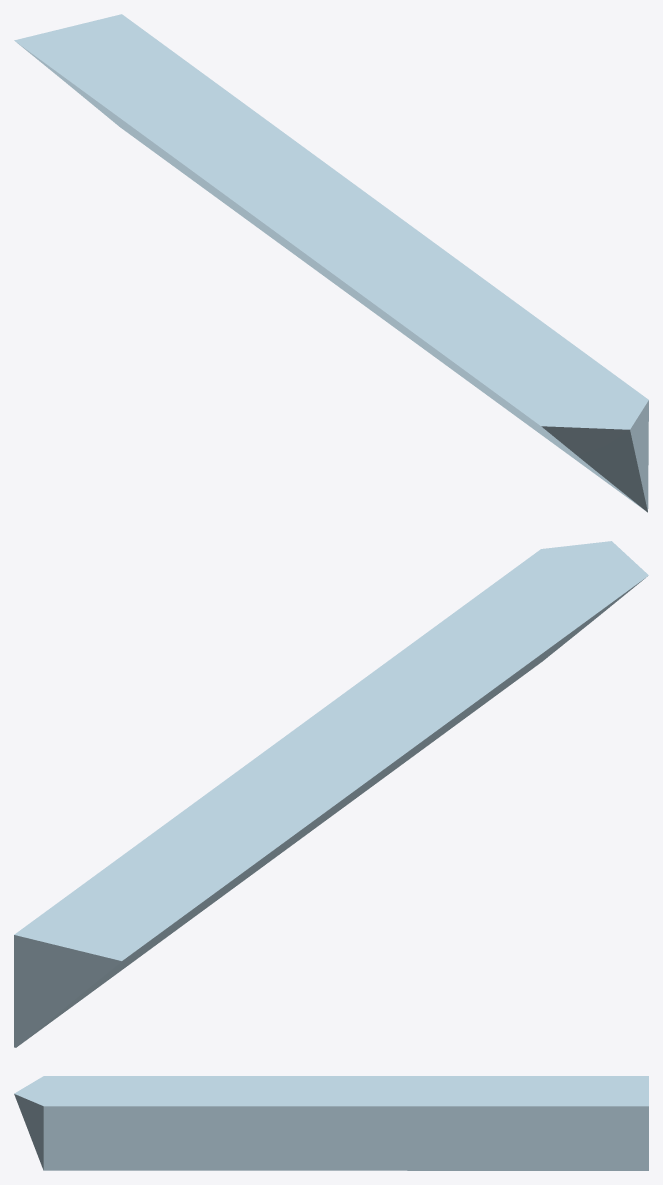
Rendered from STAM - S5-1.gltf.
3 renders of one model, top to bottom at view 1: azimuth 30°, elevation 25°; view 2: azimuth 150°, elevation 25°; view 3: azimuth 270°, elevation 25°, orthographic. The views are drawn at different scales.
Parts seen in each view (by area): view 1: S5-1; view 2: S5-1; view 3: S5-1.
Boxes of the visible parts, x1=… form: S5-1: x1=14, y1=14, x2=648, y2=512; S5-1: x1=14, y1=541, x2=648, y2=1047; S5-1: x1=14, y1=1076, x2=648, y2=1170.
Bounding box in the file's own units: 0.00166 × 0.00165 × 0.0147.
